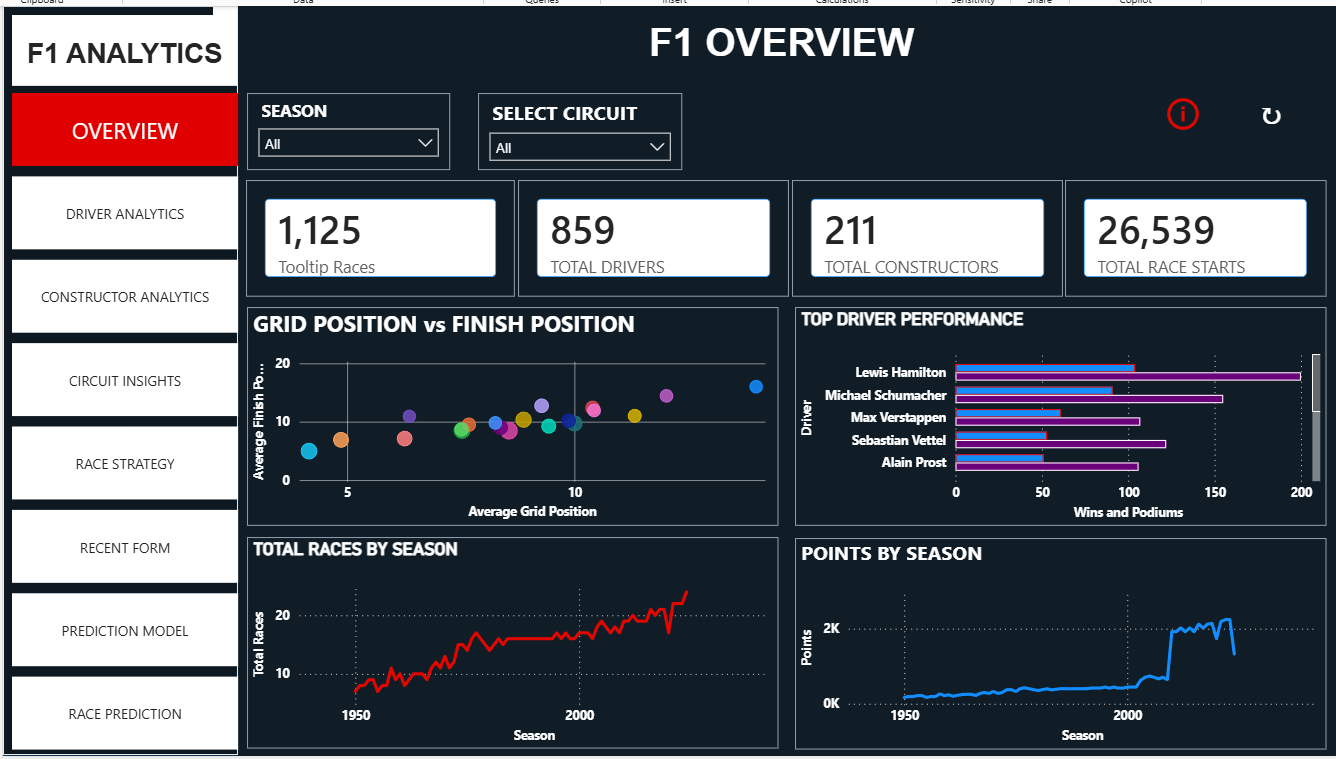

The dashboard page shown, as its layout file describes it:
{"tool":"powerbi","page":{"name":"OVERVIEW","canvas":[1280,720],"ordinal":0},"visuals":[{"type":"shape","box":[0,0,225.5,719.1],"z":0},{"type":"cardVisual","fields":{"Data":["races_clean.Tooltip Races"]},"box":[233.6,166.8,258.2,111.8],"z":1000},{"type":"cardVisual","fields":{"Data":["drivers_clean.Total Drivers"]},"box":[494.2,166.8,260,111.8],"z":2000},{"type":"cardVisual","fields":{"Data":["constructors_clean.Total Constructors"]},"box":[756.6,166.8,260,111.8],"z":3000},{"type":"cardVisual","fields":{"Data":["Dim Season.Tooltip Circuit Race Starts"]},"box":[1019,166.8,250.9,111.8],"z":4000},{"type":"clusteredBarChart","title":"TOP DRIVER PERFORMANCE","fields":{"Category":["drivers_clean.driverName"],"Y":["results_clean.Total Wins","results_clean.Total Podiums"]},"box":[759.9,288.8,510.5,210.1],"z":5000},{"type":"slicer","fields":{"Values":["Dim Season.Season"]},"box":[234.4,83.4,195,73.9],"z":6000},{"type":"scatterChart","title":"GRID POSITION vs FINISH POSITION","fields":{"Size":["results_clean.Total Race Starts"],"Series":["drivers_clean.driverName"],"X":["results_clean.Average Grid Position"],"Y":["results_clean.Average Finish Position"]},"box":[234.1,288.8,510,210],"z":7000},{"type":"pageNavigator","title":"              F1 ANALYTICS","box":[8.2,83.6,217.3,635.5],"z":8000},{"type":"textbox","box":[8.2,8.2,216.4,68.2],"z":9000},{"type":"textbox","box":[234.5,8.2,1036.4,68.2],"z":10000},{"type":"lineChart","title":"TOTAL RACES BY SEASON","fields":{"Category":["races_clean.season"],"Y":["races_clean.Total Races"]},"box":[234.1,509.5,510.5,203.4],"z":11000},{"type":"slicer","title":"SELECT CIRCUIT","fields":{"Values":["circuits_clean.circuitName"]},"box":[455.8,83.4,195.7,73.9],"z":12000},{"type":"lineChart","title":"POINTS BY SEASON","fields":{"Category":["races_clean.season"],"Y":["results_clean.Championship Points"]},"box":[760,510,510,203],"z":13000},{"type":"actionButton","box":[1112.5,83.4,63.2,40.4],"z":14000},{"type":"actionButton","box":[1164.3,65.9,106.2,74.6],"z":17500}]}

Visuals, with their boxes on the page's 1280x720 design canvas (x1, y1, x2, y2). These are canvas units, not pixel positions in the 1336x759 screenshot, which may show the page scaled, cropped or inside an application window:
shape: 0/0/226/719
cardVisual - races_clean.Tooltip Races: 234/167/492/279
cardVisual - drivers_clean.Total Drivers: 494/167/754/279
cardVisual - constructors_clean.Total Constructors: 757/167/1017/279
cardVisual - Dim Season.Tooltip Circuit Race Starts: 1019/167/1270/279
"TOP DRIVER PERFORMANCE" clusteredBarChart: 760/289/1270/499
slicer - Dim Season.Season: 234/83/429/157
"GRID POSITION vs FINISH POSITION" scatterChart: 234/289/744/499
"              F1 ANALYTICS" pageNavigator: 8/84/226/719
textbox: 8/8/225/76
textbox: 234/8/1271/76
"TOTAL RACES BY SEASON" lineChart: 234/510/745/713
"SELECT CIRCUIT" slicer: 456/83/652/157
"POINTS BY SEASON" lineChart: 760/510/1270/713
actionButton: 1112/83/1176/124
actionButton: 1164/66/1270/140
